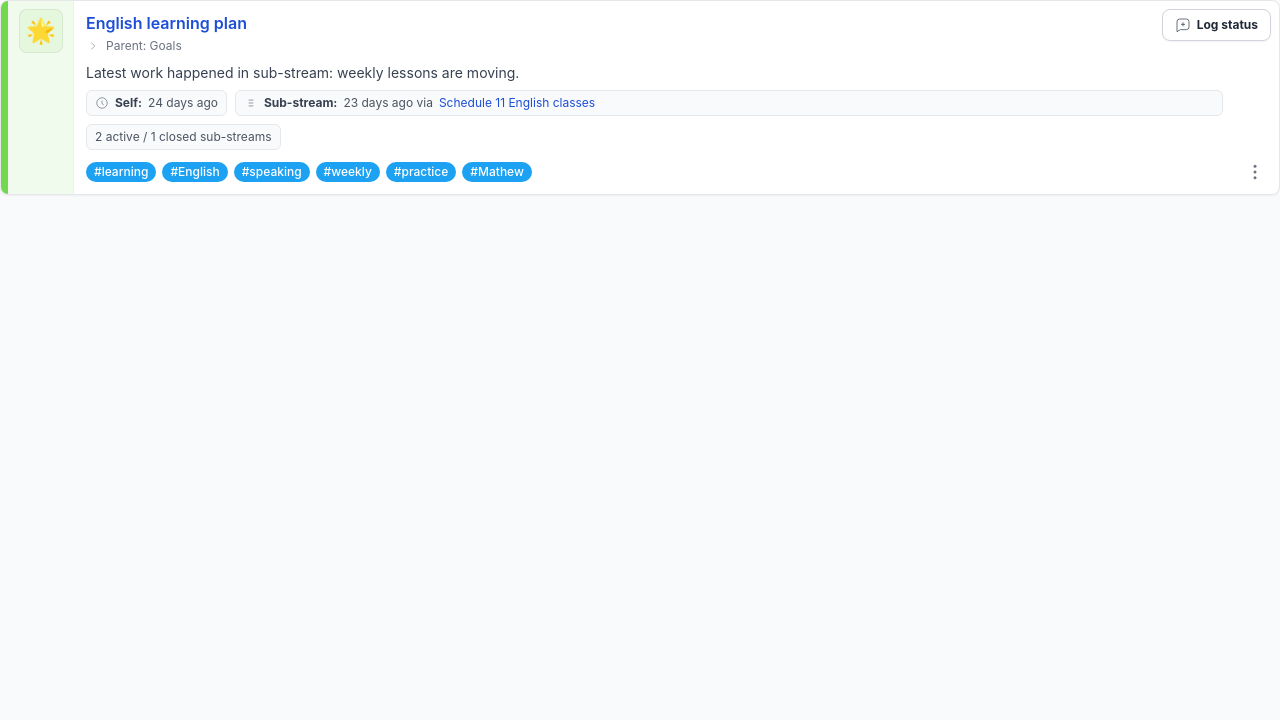
Test: WorkstreamCard tile layout › opens the existing stream edit dialog from the options menu with current values
Click the button named "More".
click(1255, 172)  # box [1239, 158, 1271, 186]
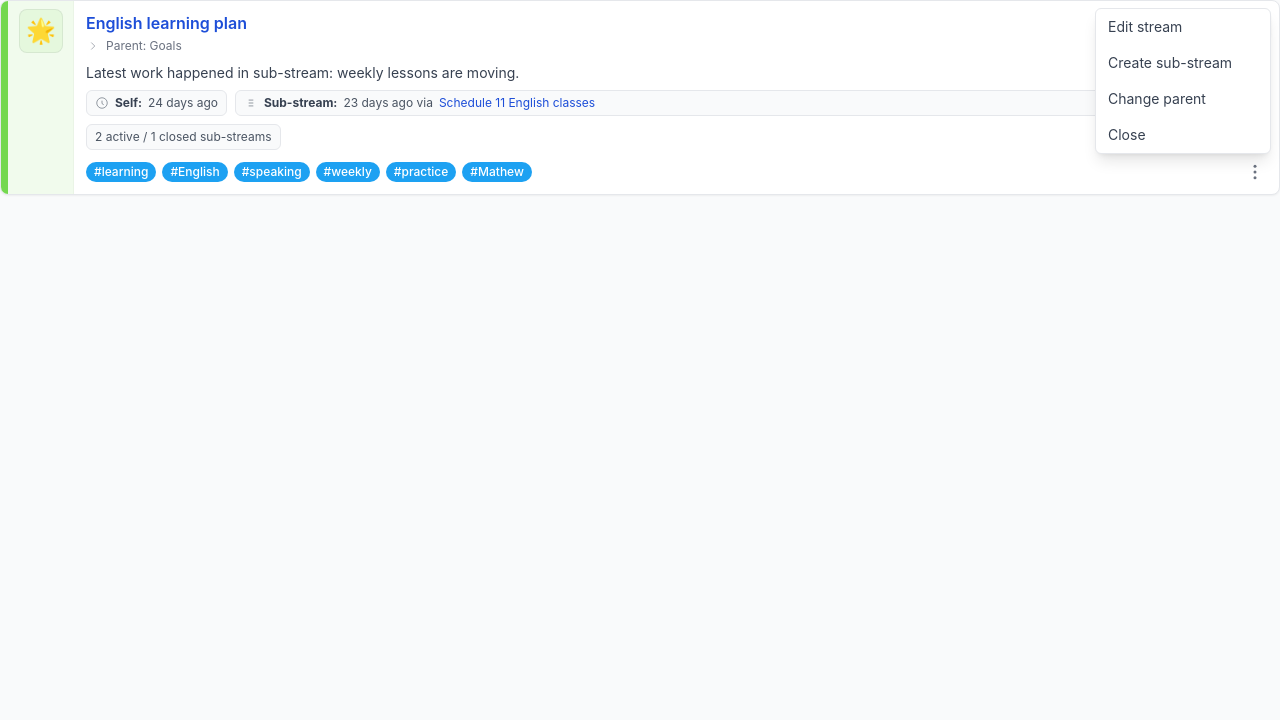
Click the button "Edit stream".
click(1183, 27)  # box [1096, 9, 1270, 45]
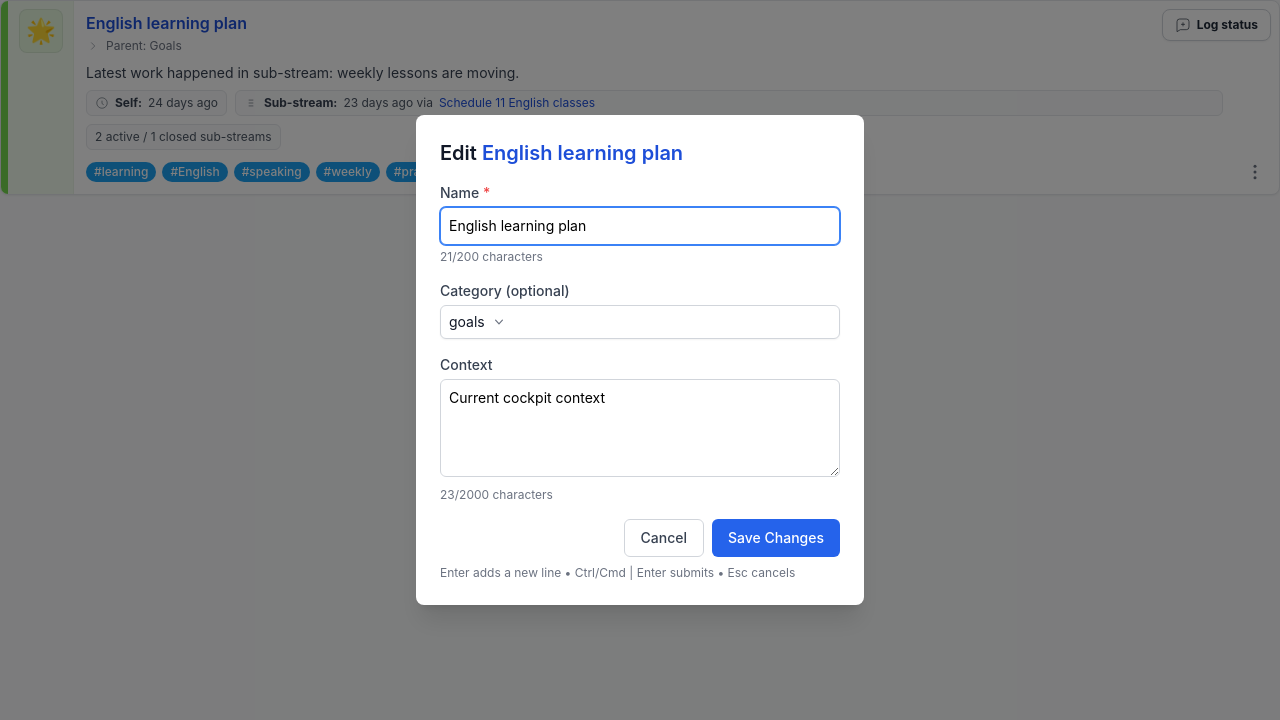
Now the heading "Edit English learning plan" is shown, box [440, 141, 683, 165]
Now the field labelled "Name *" holds "English learning plan", box [440, 207, 840, 245]
Now the button "goals" is shown, box [440, 305, 840, 339]
